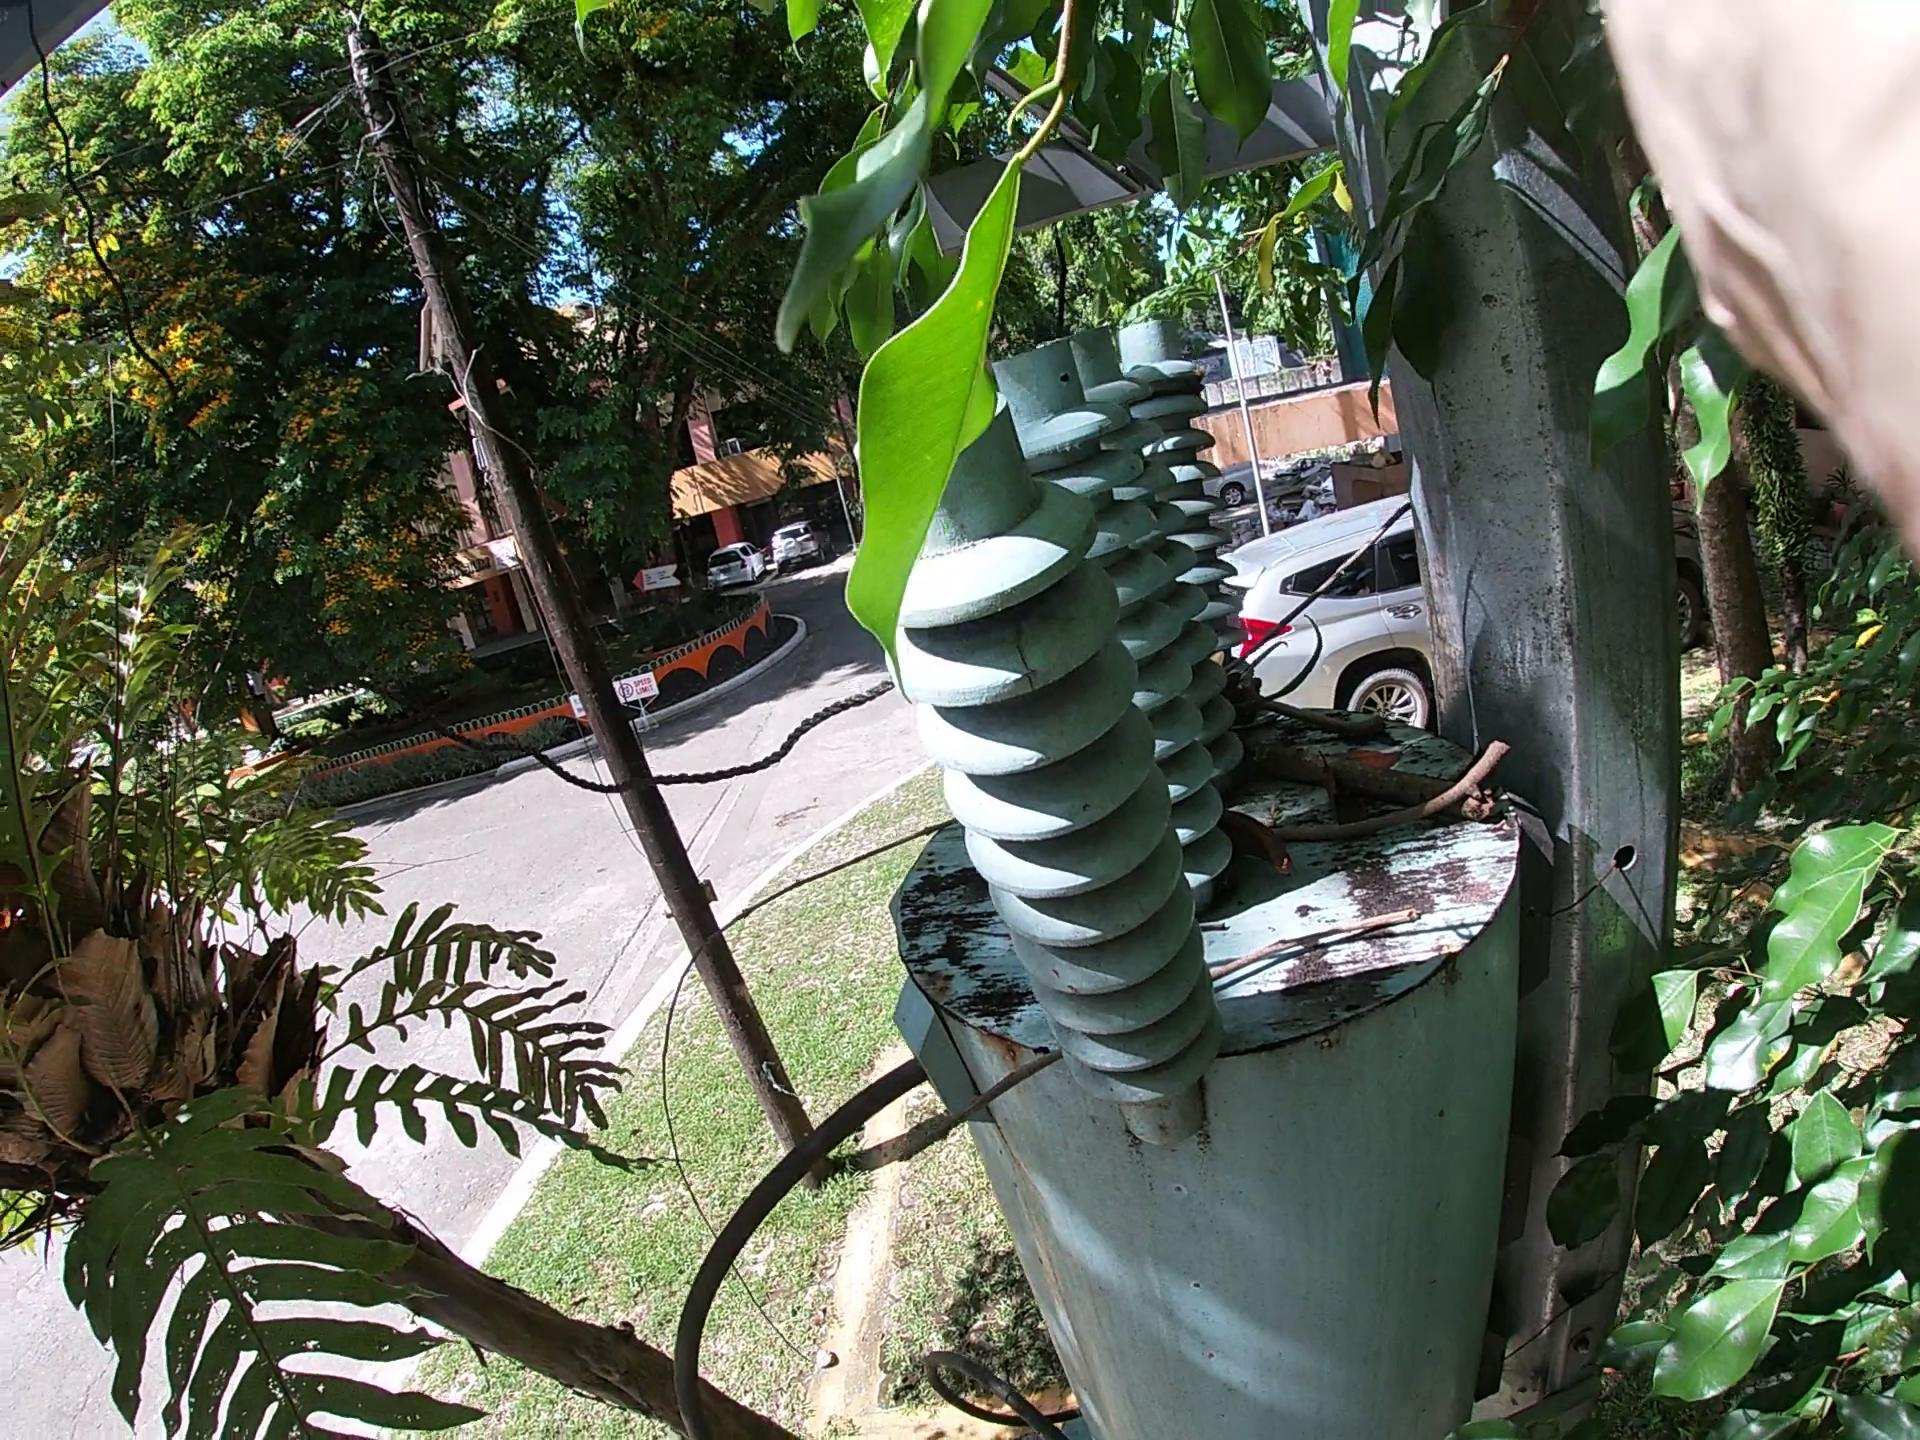leaf: (1261, 700, 1454, 805)
mahogany fruit: (1234, 678, 1407, 821)
tree branch: (447, 464, 1411, 1274), (874, 861, 1414, 1215), (1185, 777, 1590, 839)
